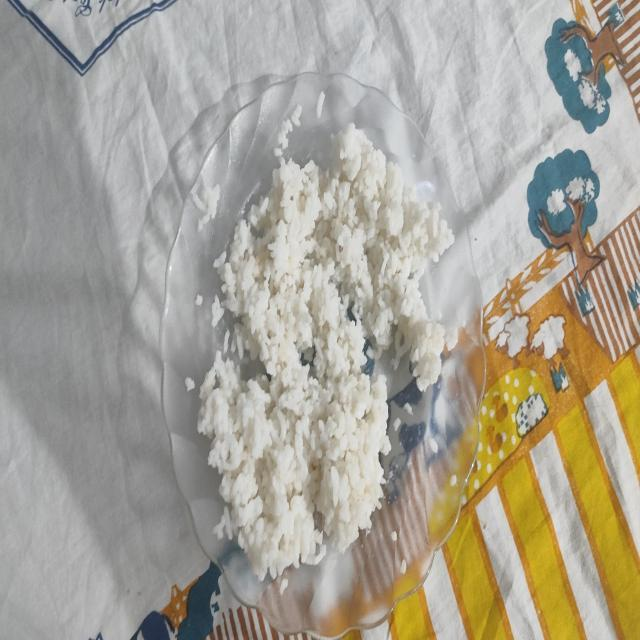nasi_putih: (198, 110, 451, 580)
